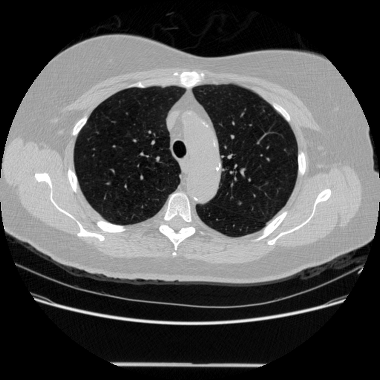nodule: (237, 201, 241, 205)
